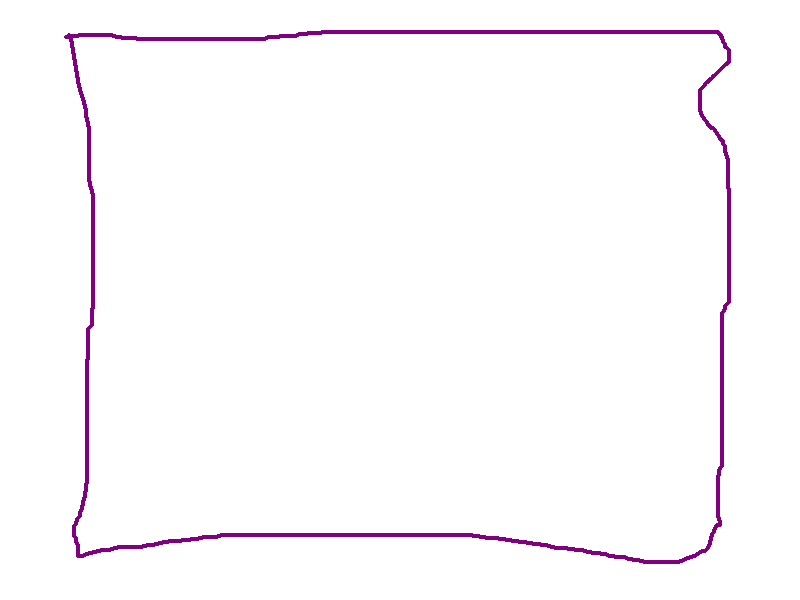rect: (63, 24, 735, 570)
